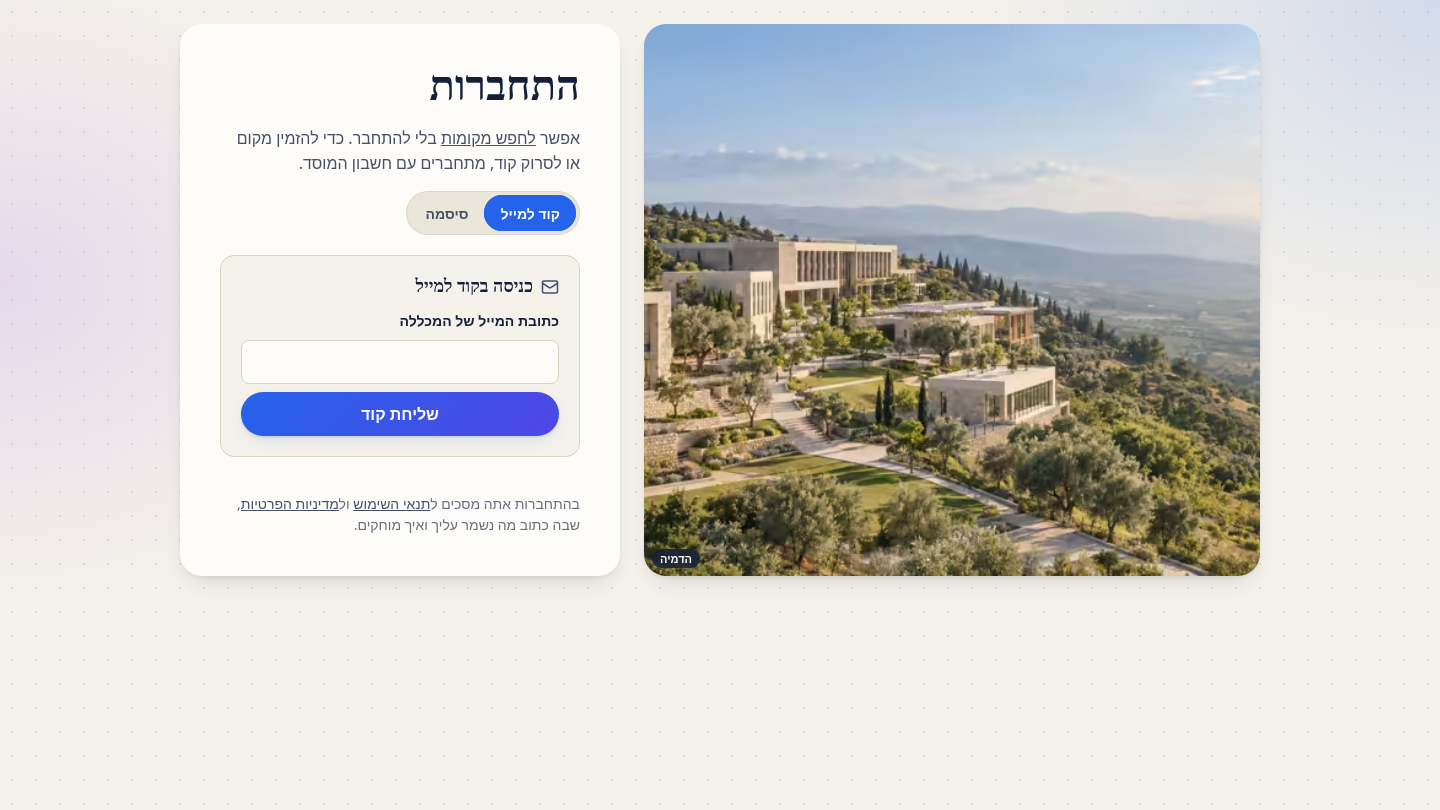
Test: LoginPage email code › keeps the form after a wrong code, and can go back to change the address
The width and height of the screenshot is (1440, 810).
Type "a@e.braude.ac.il" into the field labelled "כתובת המייל של המכללה" at (400, 362), box x1=241 y1=340 x2=559 y2=384
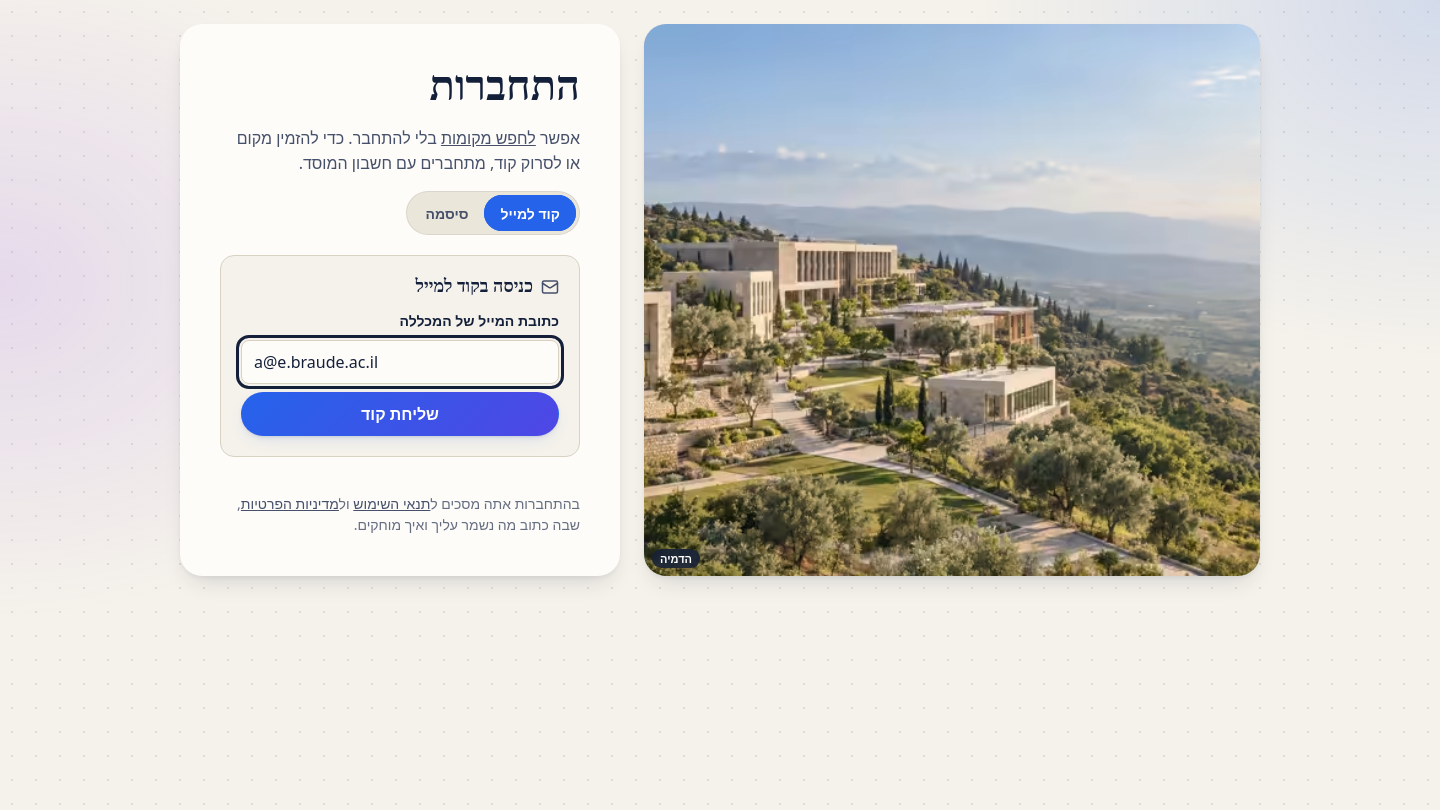
Click the button "שליחת קוד" at (400, 414), box x1=241 y1=392 x2=559 y2=436
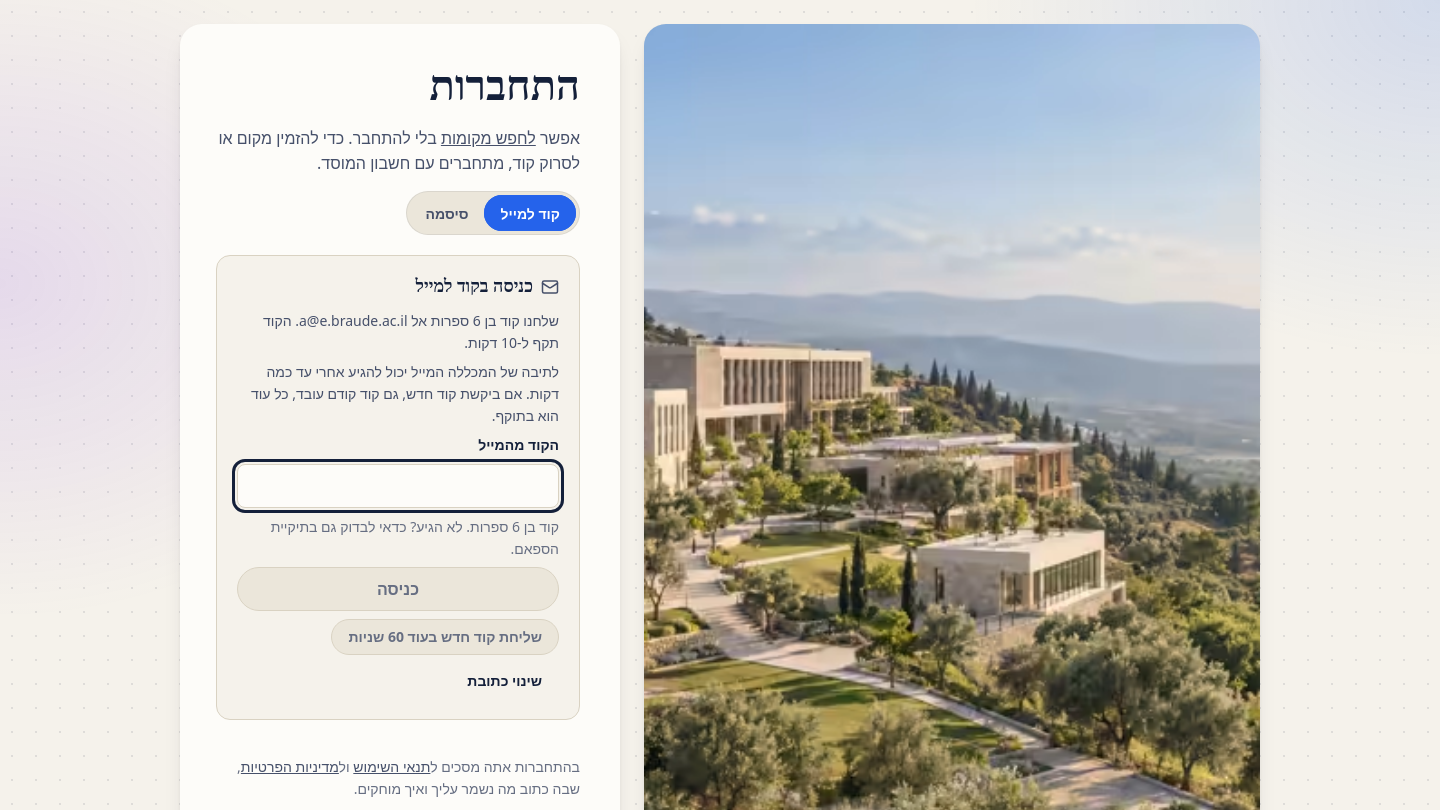
Type "000000" into the field labelled "הקוד מהמייל" at (398, 486), box x1=237 y1=464 x2=559 y2=508
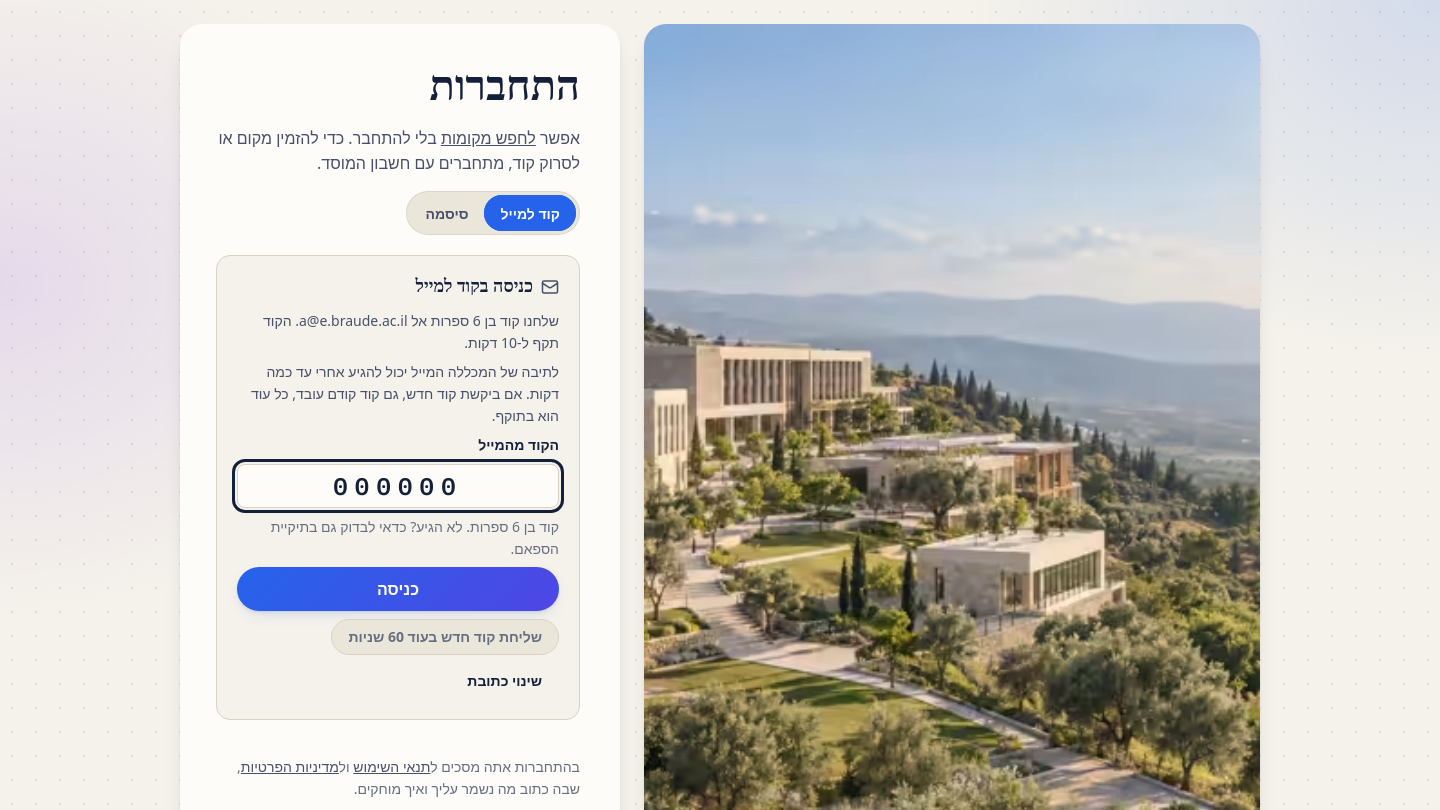
Click the button "כניסה" at (398, 589), box x1=237 y1=567 x2=559 y2=611
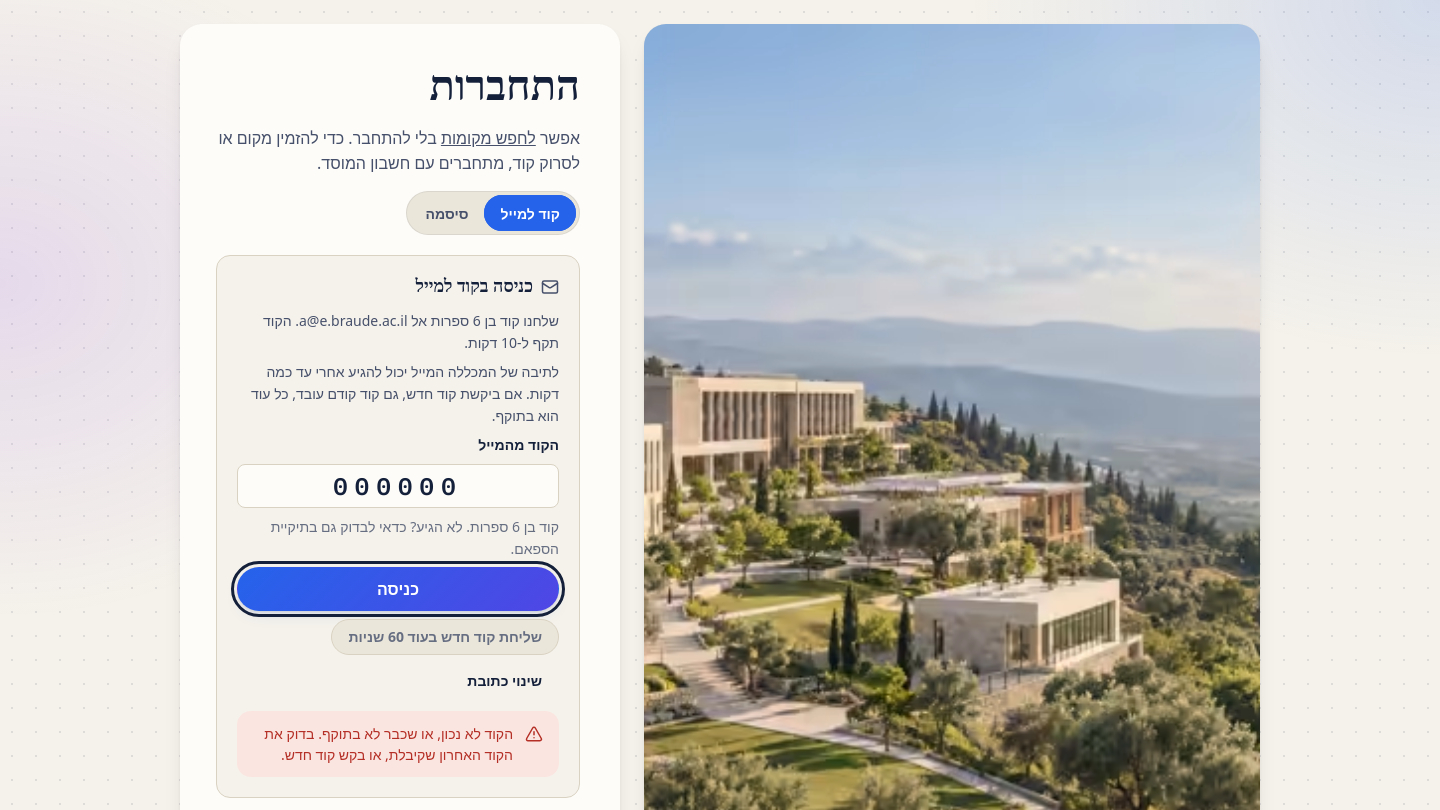
Result: the text "הקוד לא נכון" is shown at x1=264 y1=724 x2=513 y2=764
Click the button "שינוי כתובת" at (505, 681), box x1=450 y1=663 x2=559 y2=699
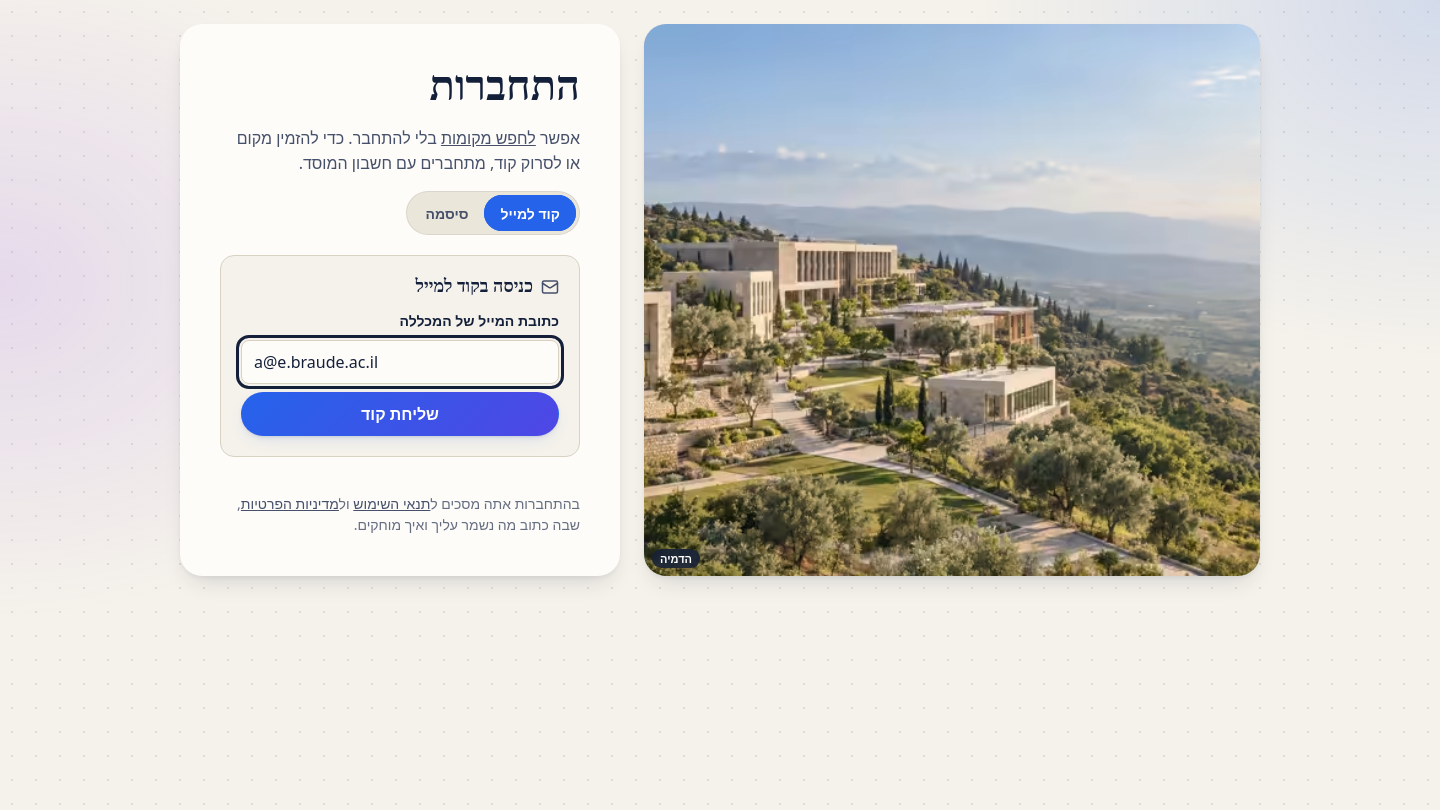
Result: the field labelled "כתובת המייל של המכללה" holds "a@e.braude.ac.il" at x1=241 y1=340 x2=559 y2=384
